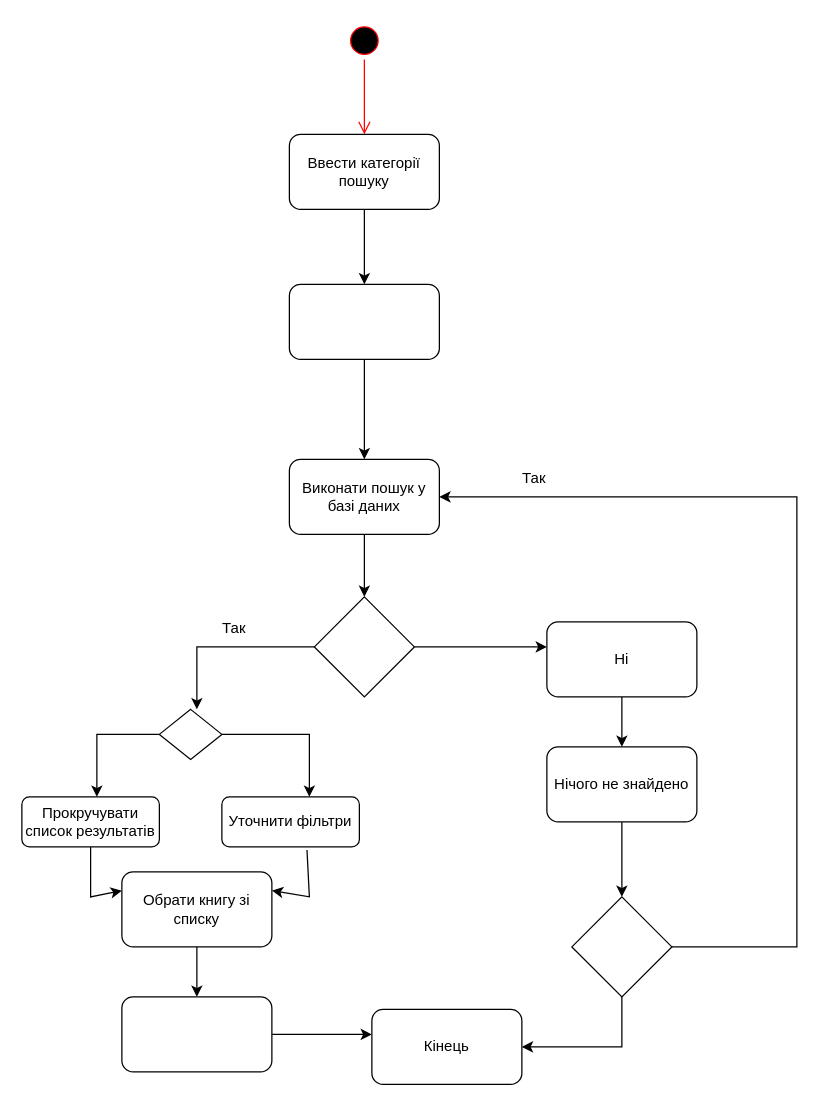
Some shapes in this 829 by 1106 pixel diagram are drawn without their labels. Here are the shapes that lost their labels. From the top down, the box of each, then its label:
(288, 283, 439, 359): Надіслати запит до системи
(313, 596, 414, 697): Є результати?
(571, 896, 672, 997): Потворити пошук?
(121, 996, 272, 1072): Показати детальну інформацію про книгу
